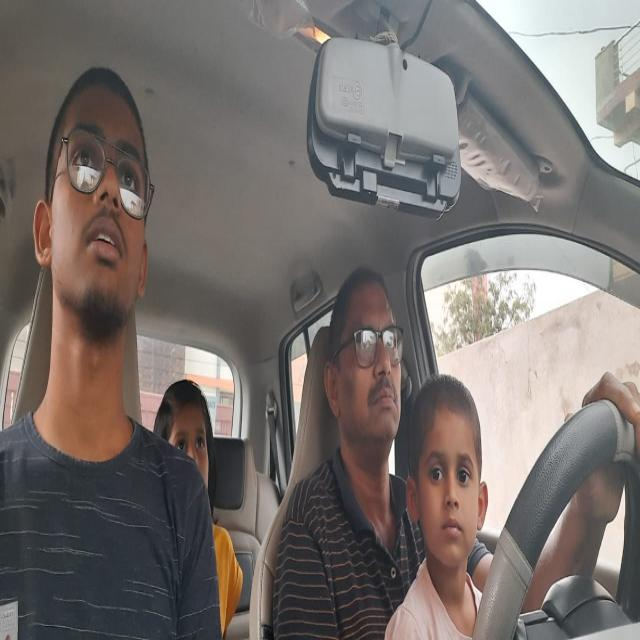child: (411, 370, 487, 583)
person: (33, 70, 156, 344), (329, 263, 406, 476), (154, 380, 218, 519)
